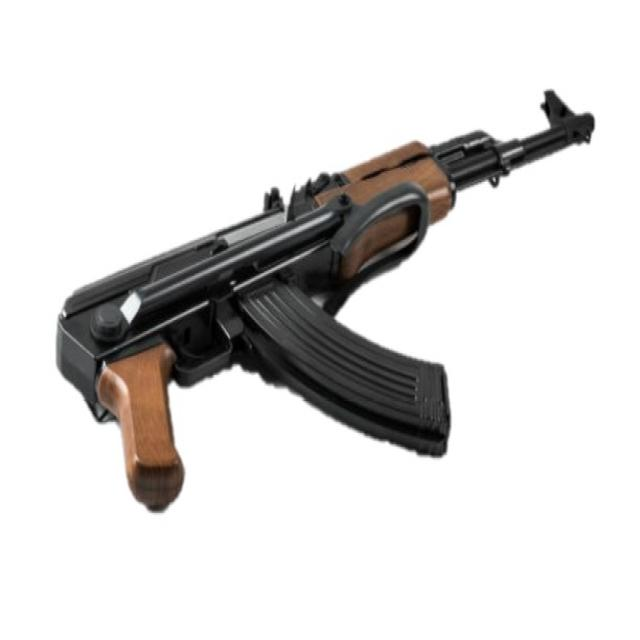rifle: (49, 76, 602, 532)
